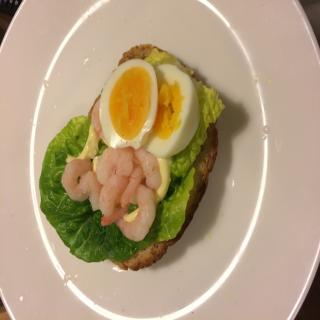Egg: (98, 56, 159, 150), (143, 62, 201, 159)
